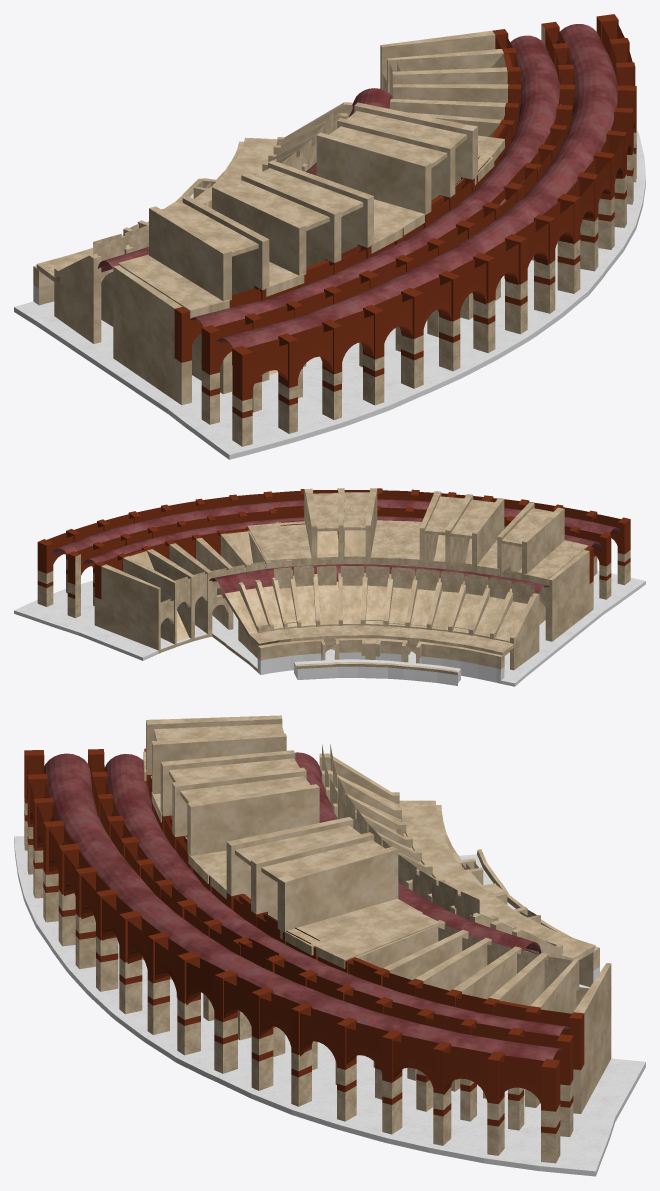
File: colera1v5.glb
The picture shows the model from 3 angles, top to bottom: view 1: azimuth 30°, elevation 25°; view 2: azimuth 150°, elevation 25°; view 3: azimuth 270°, elevation 25°; orthographic projection. The views are drawn at different scales.
Parts seen in each view (by area): view 1: Cube.206; view 2: Cube.206; view 3: Cube.206.
Part boxes in pixels (x1=…): Cube.206: x1=14, y1=14, x2=645, y2=459; Cube.206: x1=14, y1=488, x2=645, y2=686; Cube.206: x1=14, y1=715, x2=645, y2=1176.
Bounding box in the file's own units: 267 × 55.84 × 210.
2 materials, 1 textured.
